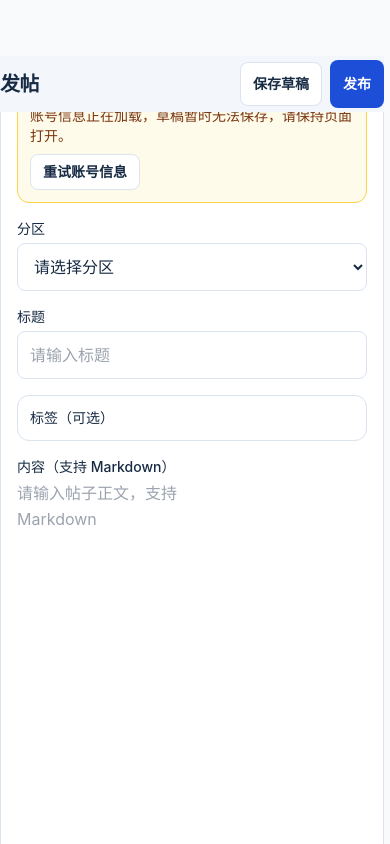
Scenario: ThreadCreate › warns and blocks publishing while the logged-in account identity is pending
Expected: the message with test id "thread-create-identity-warning" shows "账号信息正在加载", 30,107 -> 352,144
Select "编程" in the dropdown labelled "分区" at {"x": 192, "y": 267}, box 17,243 -> 367,291
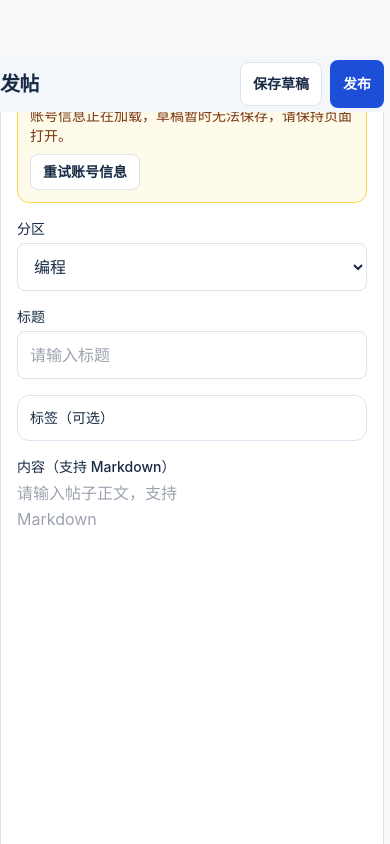
Type "待确认标题" into the field with id "thread-create-title".
click(192, 355); type("待确认标题")  # box 17,331 -> 367,379
(page scrolled)
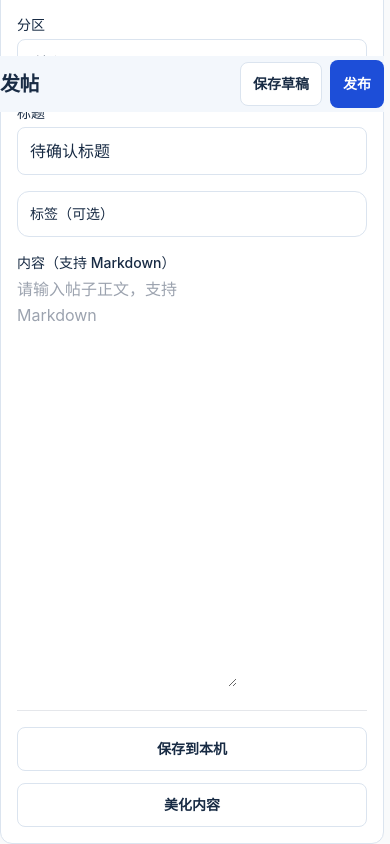
Type "待确认正文" into the text box with placeholder "请输入帖子正文，支持 Markdown".
click(127, 482); type("待确认正文")  # box 17,277 -> 237,686
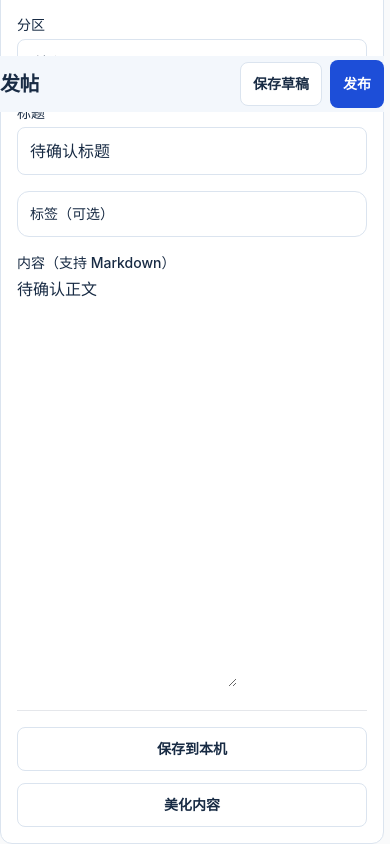
Click the button "发布".
click(357, 84)  # box 330,60 -> 384,108
(page scrolled)
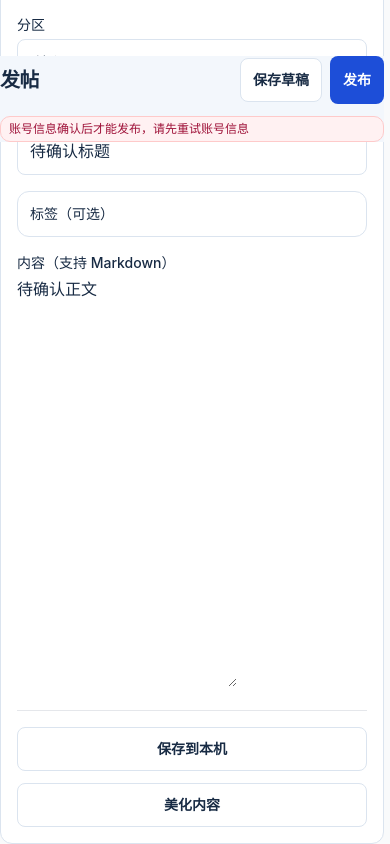
Now the text "账号信息确认后才能发布" is shown, box 9,121 -> 249,136
